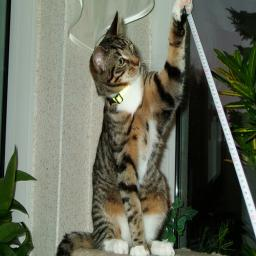catnose: (134, 58, 140, 68)
